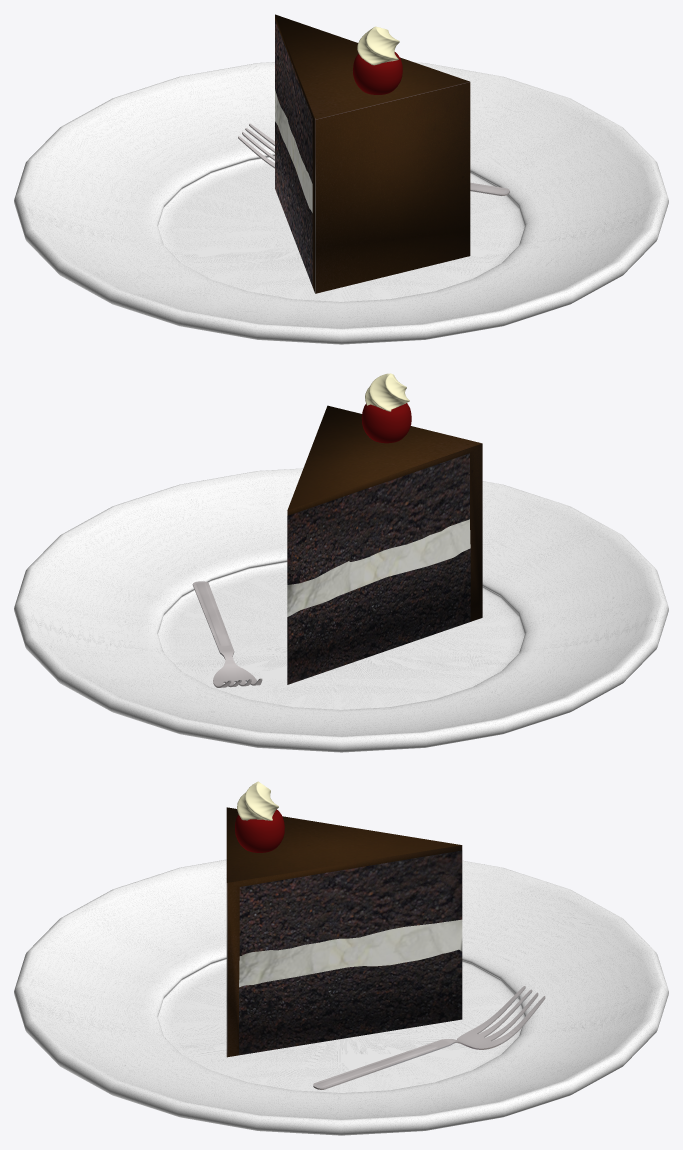
File: Kuchenstück.dae
3 views of the same model, one above another, from view 1: azimuth 30°, elevation 25°; view 2: azimuth 150°, elevation 25°; view 3: azimuth 270°, elevation 25° (orthographic).
Visible parts, largest first — view 1: Plates, group_0 (×4), Patch0, Model_1659, group_1; view 2: Plates, group_0 (×4), group_1 (×2), Patch0, Model_1659; view 3: Plates, group_0 (×4), group_1 (×2), Patch0, Model_1659.
Part boxes in pixels (x1,y1,x2,y2): Plates: [14, 62, 668, 344]; group_0 (×4): [275, 14, 470, 293]; Patch0: [353, 52, 402, 94]; Model_1659: [357, 26, 399, 65]; group_1: [238, 123, 509, 195]; Plates: [14, 468, 668, 752]; group_0 (×4): [287, 405, 482, 684]; group_1 (×2): [192, 581, 262, 687]; Patch0: [361, 403, 411, 443]; Model_1659: [365, 373, 409, 411]; Plates: [14, 859, 668, 1135]; group_0 (×4): [226, 807, 462, 1057]; group_1 (×2): [313, 986, 545, 1089]; Patch0: [235, 809, 284, 852]; Model_1659: [237, 781, 278, 820].
Bounding box in the file's own units: 17.28 × 17.28 × 7.35.
9 materials, 5 textured.
